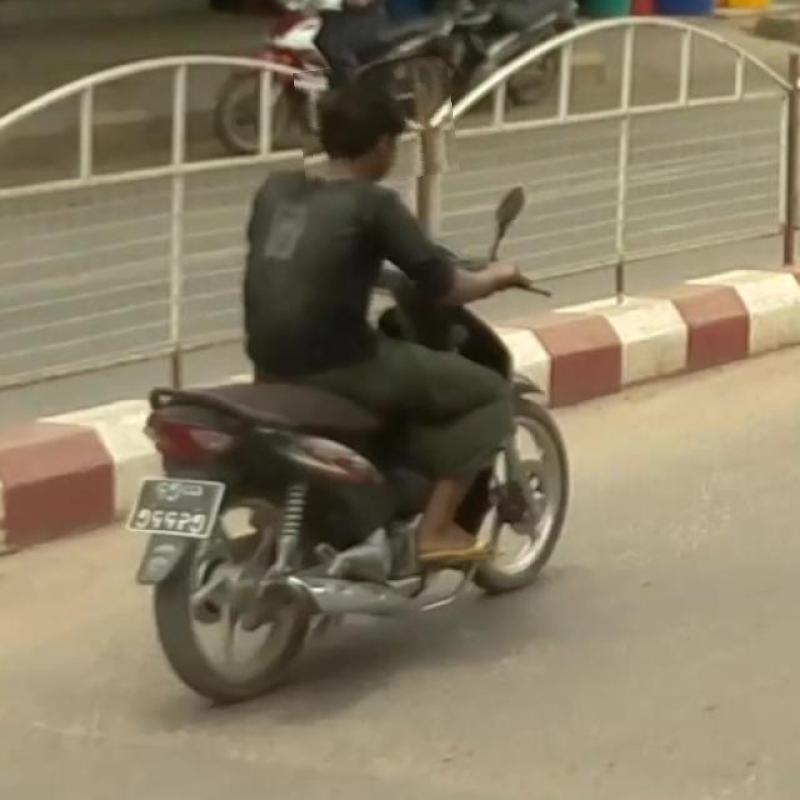nohelmet: (296, 60, 458, 186)
